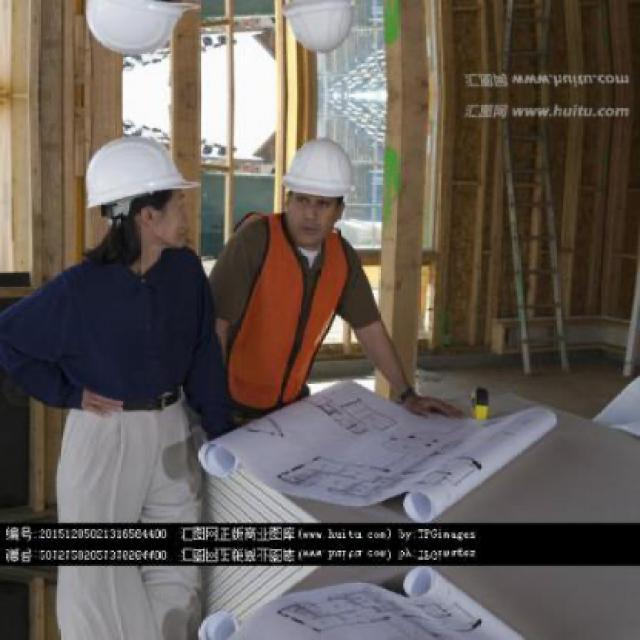Reflective-Jacket: (223, 211, 360, 412)
Safety-Helmet: (67, 130, 202, 218), (272, 131, 362, 207), (192, 606, 246, 640)
